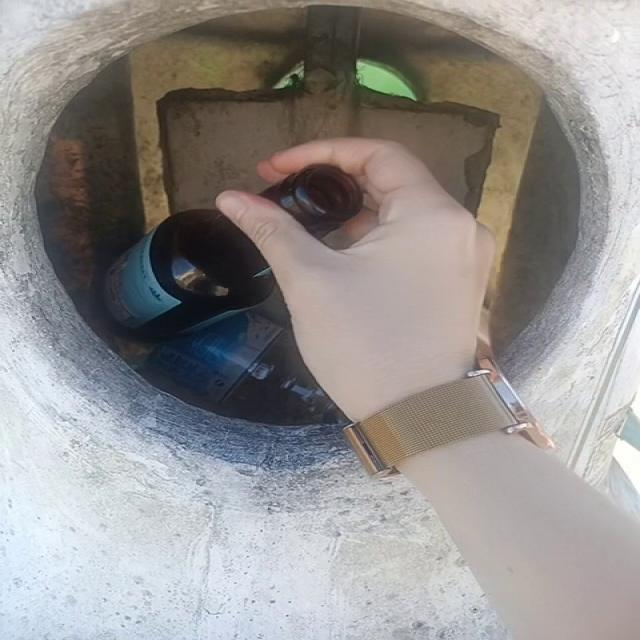Glass: (104, 209, 273, 340), (260, 164, 363, 238)
